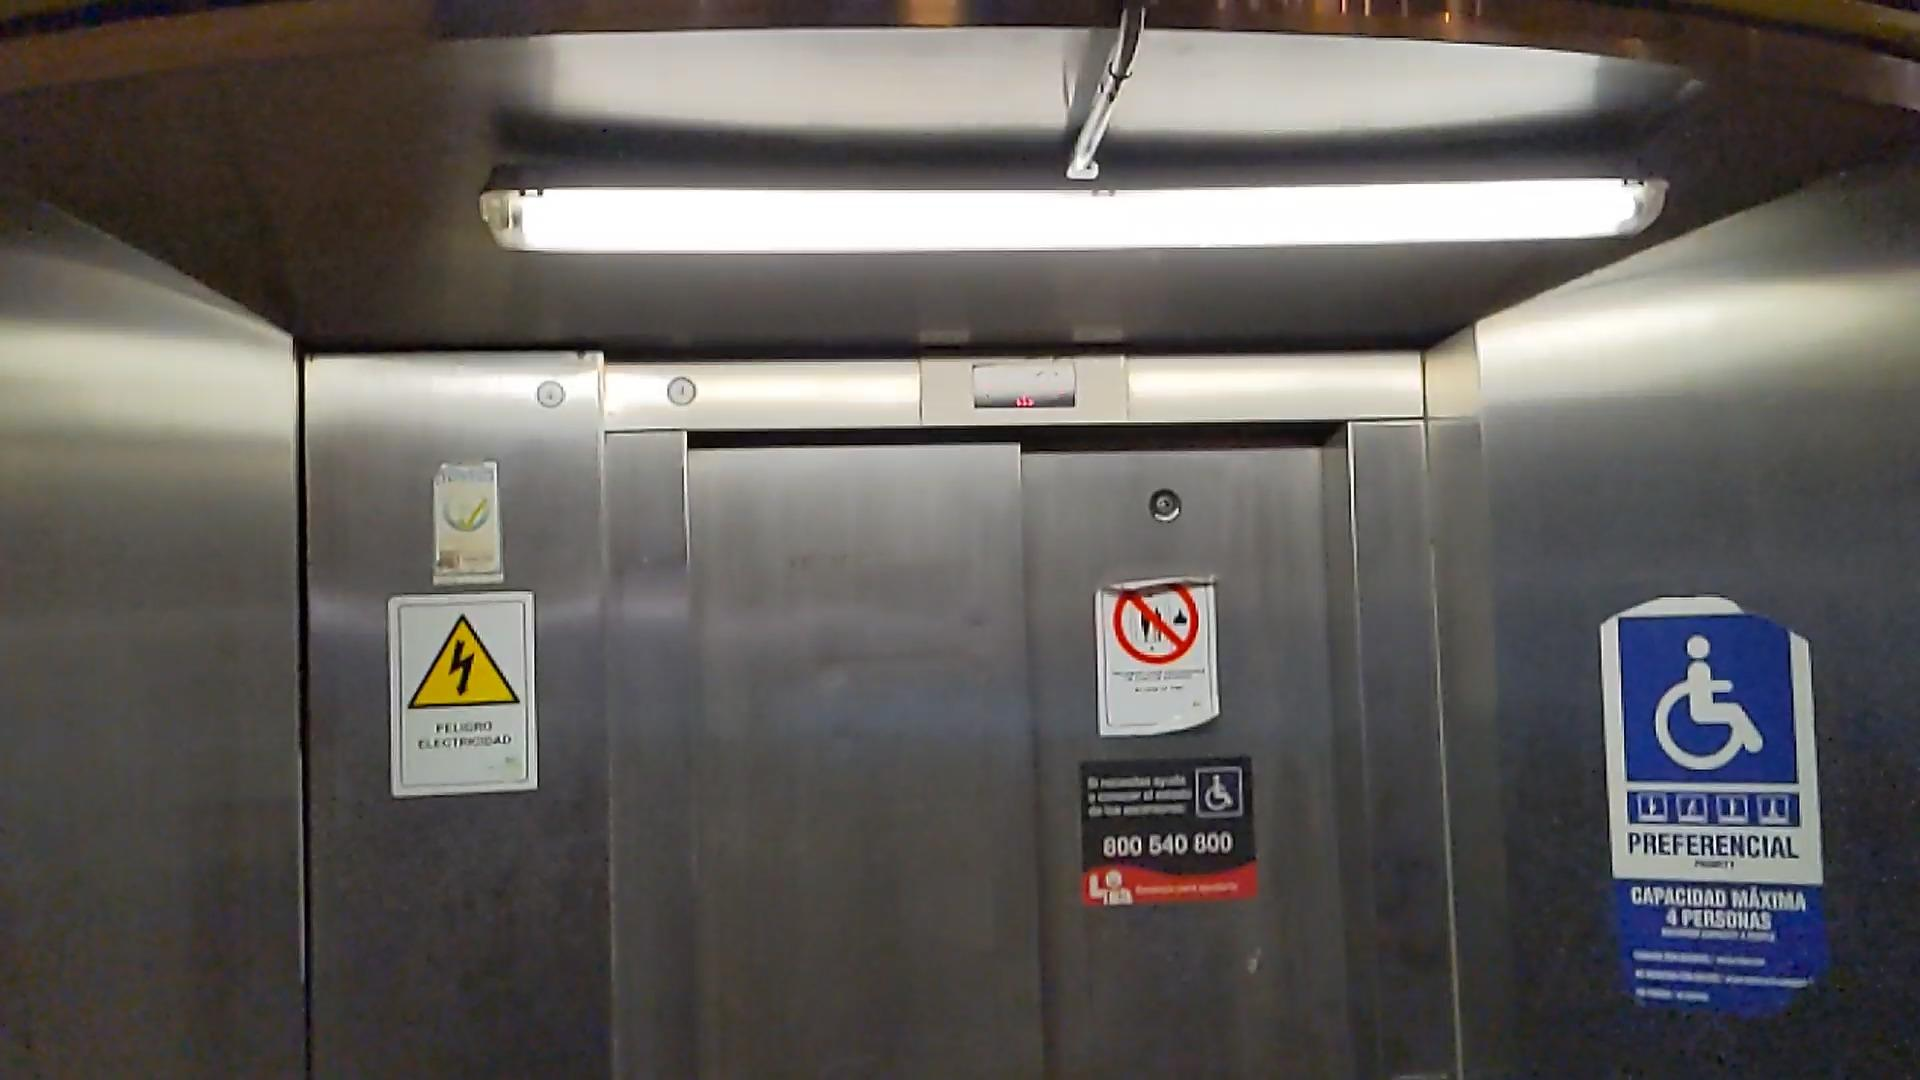danger-electricity: (407, 611, 521, 715)
handicapped symbol: (1648, 630, 1766, 775), (1200, 770, 1241, 814)
